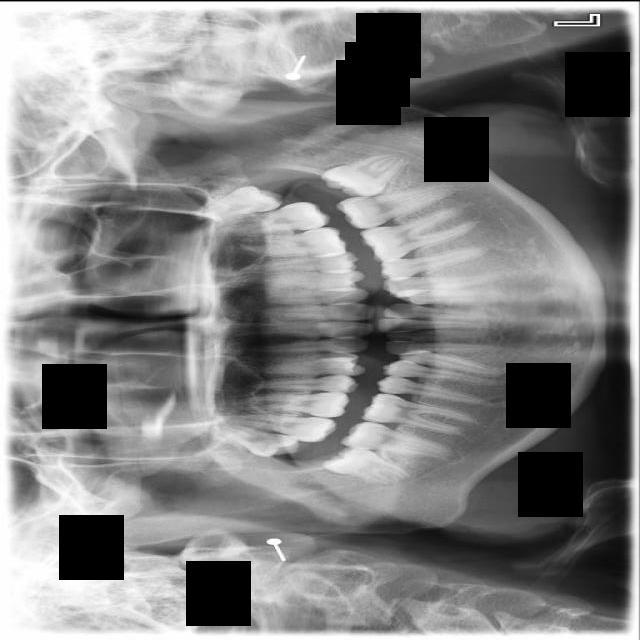3M ESPE Implant: (208, 418, 302, 464)
73: (586, 33, 600, 39)
BioHorizons Implant: (215, 199, 330, 238)
BioLife Implant: (191, 181, 284, 222)
Biomet 3i Implant: (317, 147, 411, 209)
Blue Sky Bio Implant: (336, 182, 459, 232)
Caries: (215, 409, 337, 444)
Implant: (340, 417, 449, 459)
Keystone Dental Implant: (321, 438, 414, 489)
